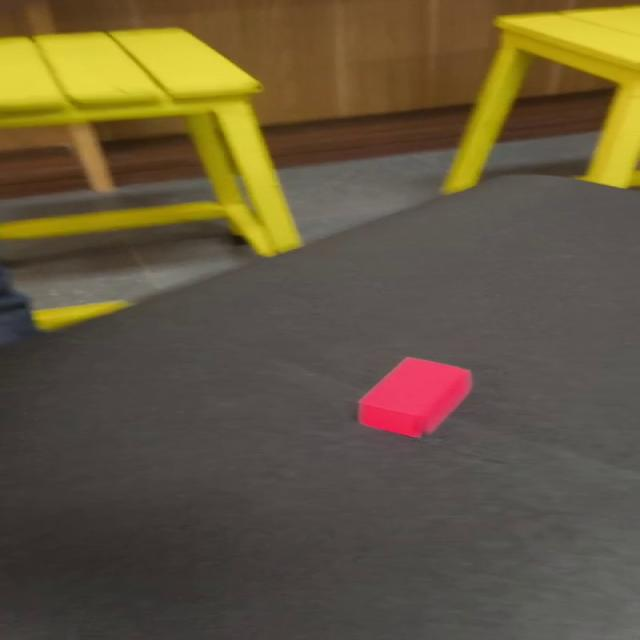red block: (355, 356, 473, 438)
